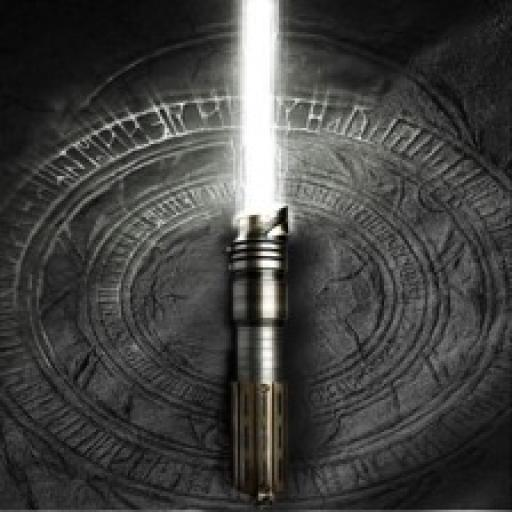lightsaber: (232, 0, 289, 504)
